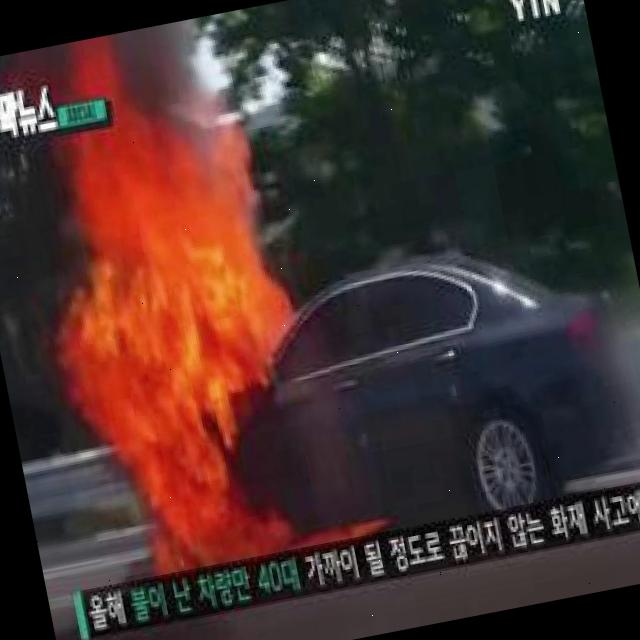fire: (45, 100, 312, 583)
